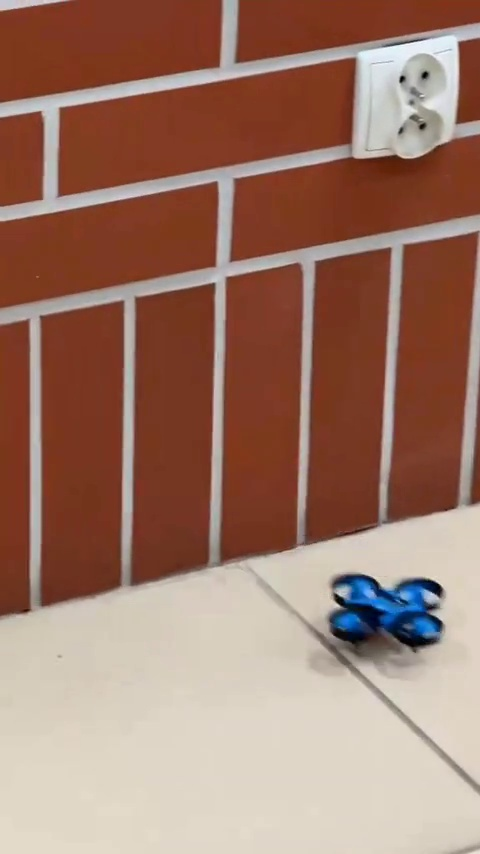drone: (328, 574, 442, 650)
